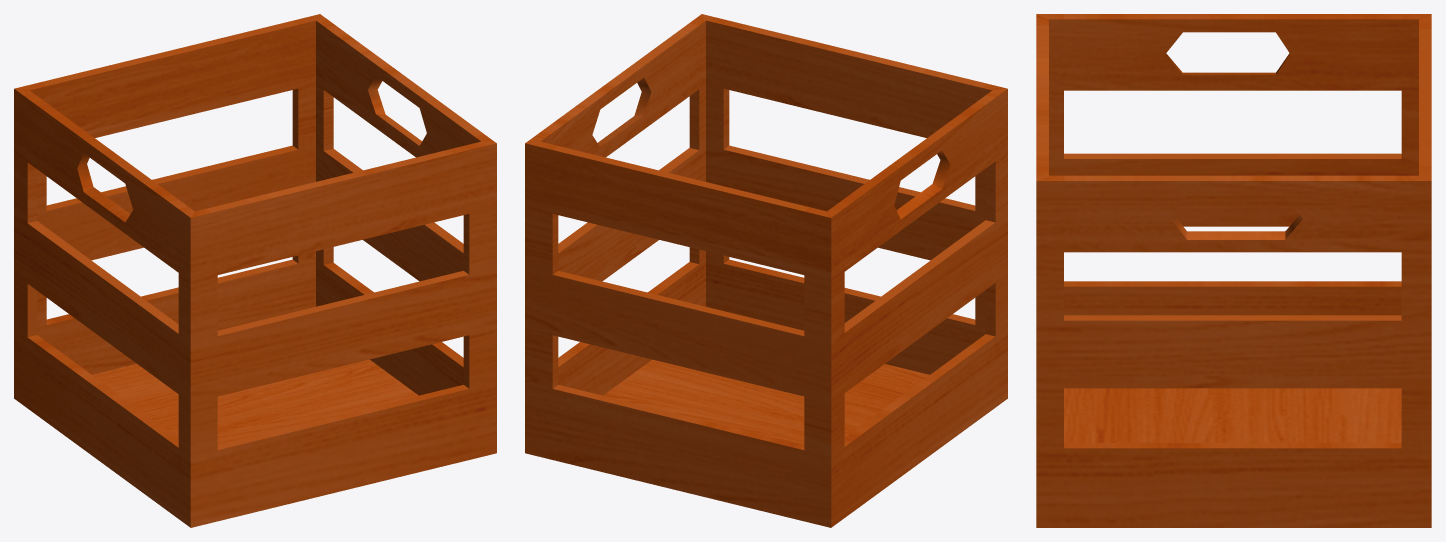
The model's file is Crate2.fbx.
3 renders of one model, left to right at view 1: azimuth 30°, elevation 25°; view 2: azimuth 150°, elevation 25°; view 3: azimuth 270°, elevation 25°, orthographic. The views are drawn at different scales.
Visible parts, largest first — view 1: bin:pCube3; view 2: bin:pCube3; view 3: bin:pCube3.
Boxes of the visible parts, left/top/right/bottom form: bin:pCube3: left=14, top=14, right=496, bottom=527; bin:pCube3: left=525, top=14, right=1007, bottom=527; bin:pCube3: left=1036, top=14, right=1431, bottom=527.
Bounding box in the file's own units: 64.38 × 62.32 × 64.38.
